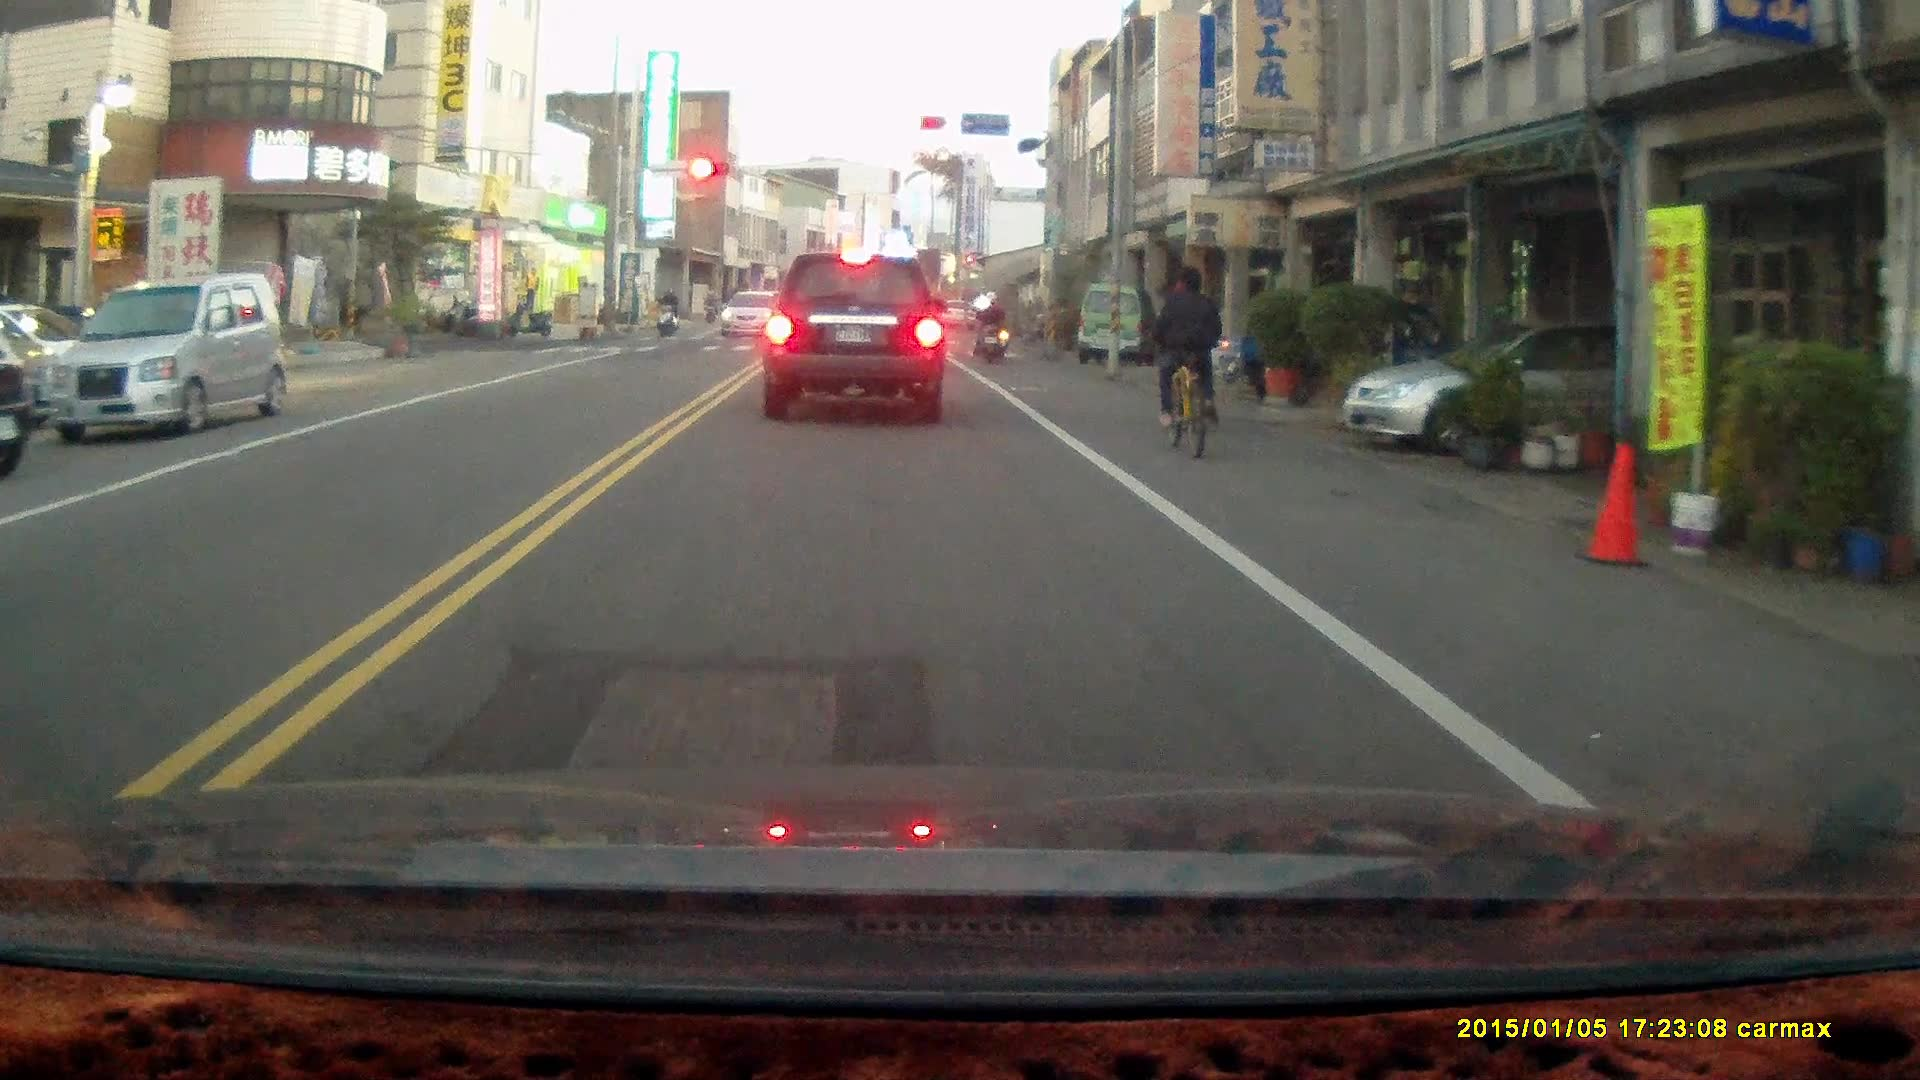pedestrian: (520, 265, 540, 313)
rider: (1149, 264, 1222, 460), (969, 288, 1009, 363), (654, 286, 681, 338)
vehicle: (1345, 320, 1754, 461), (33, 270, 290, 449), (760, 252, 951, 429), (1, 305, 43, 485), (1078, 285, 1158, 368)
